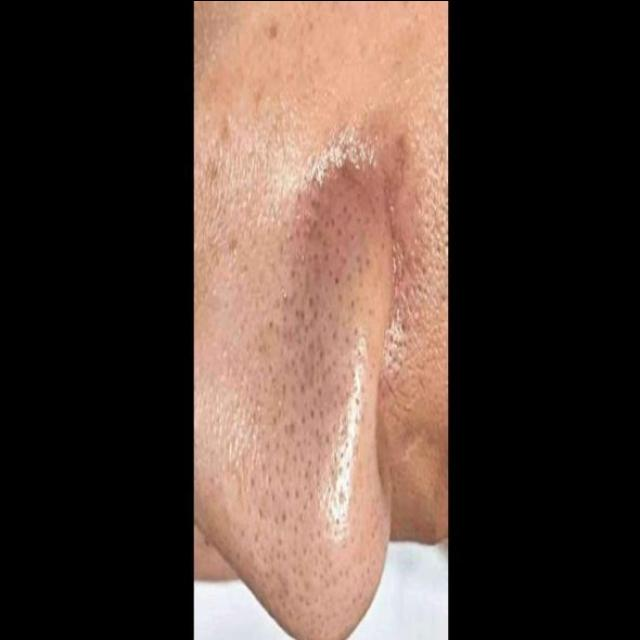blackhead: (251, 143, 380, 591)
